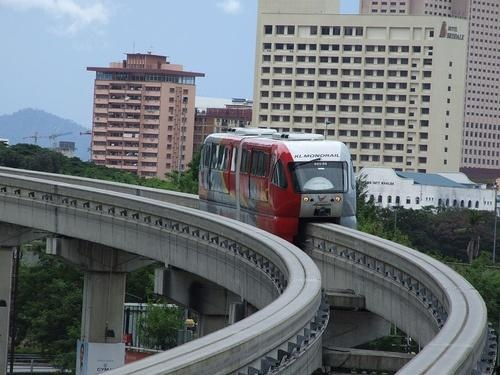train: (199, 129, 358, 247)
